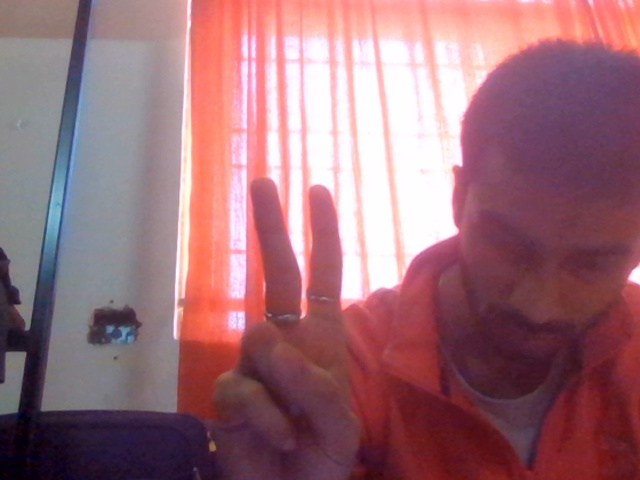V: (197, 149, 380, 480)
